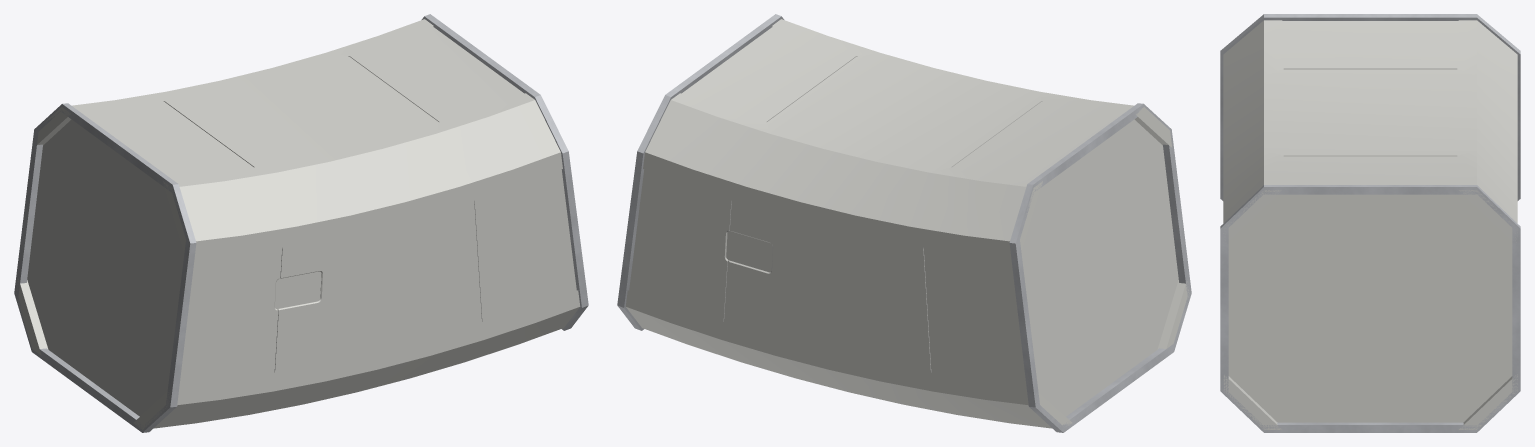
Rendered from ax_grav_10_counterweight.glb.
The picture shows the model from 3 angles, left to right: view 1: azimuth 30°, elevation 25°; view 2: azimuth 150°, elevation 25°; view 3: azimuth 270°, elevation 25°; orthographic projection. The views are drawn at different scales.
Visible parts, largest first — view 1: hull, end_flanges; view 2: hull, end_flanges; view 3: hull, end_flanges.
Boxes of the visible parts, bbox=[...] form: hull: bbox=[16, 19, 580, 429]; end_flanges: bbox=[14, 14, 588, 432]; hull: bbox=[625, 19, 1189, 428]; end_flanges: bbox=[617, 14, 1191, 432]; hull: bbox=[1223, 20, 1517, 429]; end_flanges: bbox=[1220, 14, 1520, 432].
Bounding box in the file's own units: 7.52 × 4.51 × 4.74.
2 materials, 1 textured.
